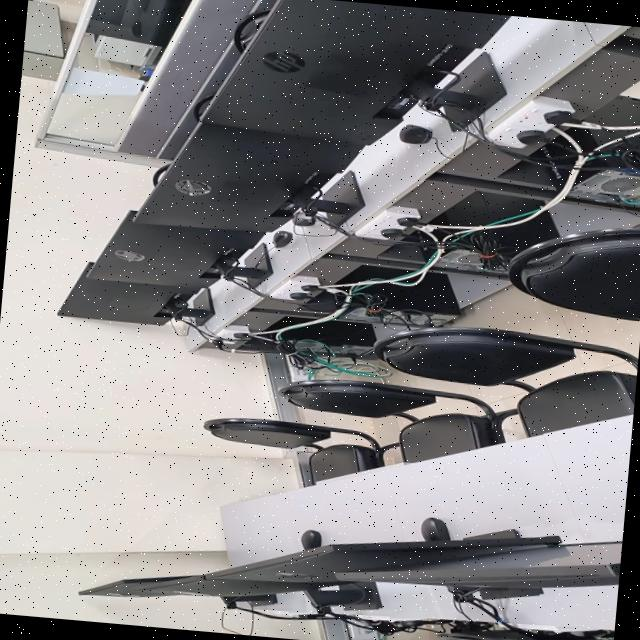Chair: (373, 327, 638, 435), (278, 380, 516, 462), (203, 418, 397, 486), (507, 227, 640, 321), (438, 629, 609, 640), (579, 376, 588, 384)
Cpu: (442, 211, 558, 270), (564, 128, 640, 211), (342, 273, 460, 320), (432, 191, 541, 226), (281, 320, 375, 352), (582, 97, 640, 126), (527, 136, 576, 165), (338, 265, 407, 283), (264, 316, 314, 330)
Monitor: (201, 0, 508, 145), (137, 124, 361, 231), (204, 529, 560, 581), (88, 211, 260, 289), (332, 542, 622, 587), (56, 262, 191, 324), (81, 575, 325, 597)
Mouse: (419, 517, 449, 541), (397, 124, 431, 144), (299, 530, 320, 550), (271, 230, 290, 247)
